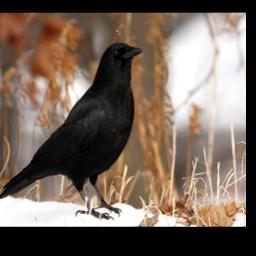Crow: (0, 38, 145, 221)
